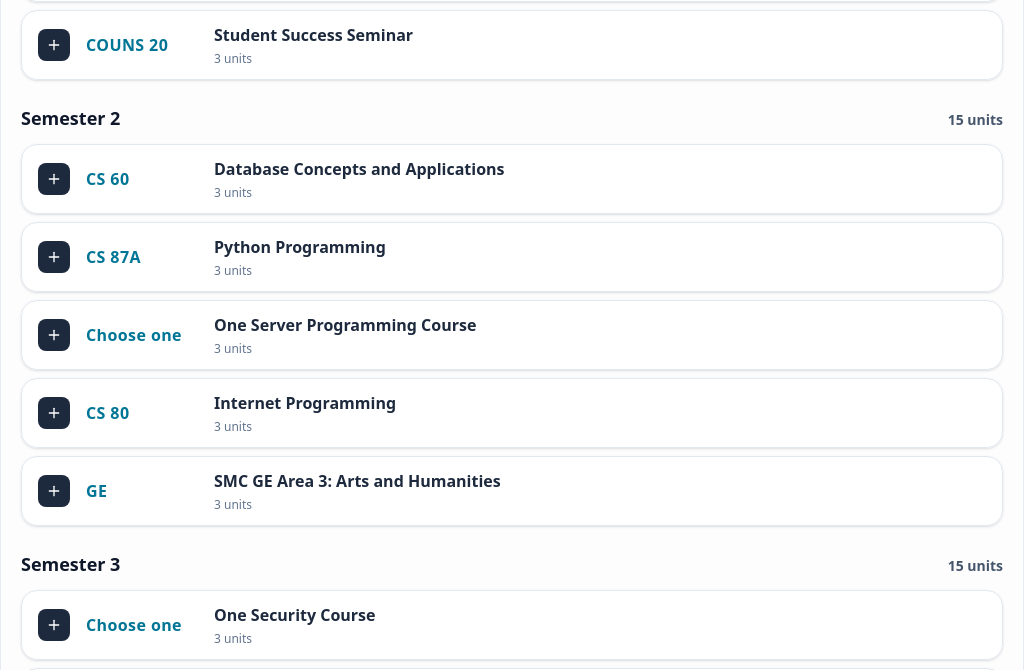
Test: WebDevMajorRequirements › updates group title after selecting an option
This screenshot has width=1024, height=670.
(page scrolled)
Click the button "Choose one One Server Programming Course 3 units" at (54, 335), box [22,301,1002,369]
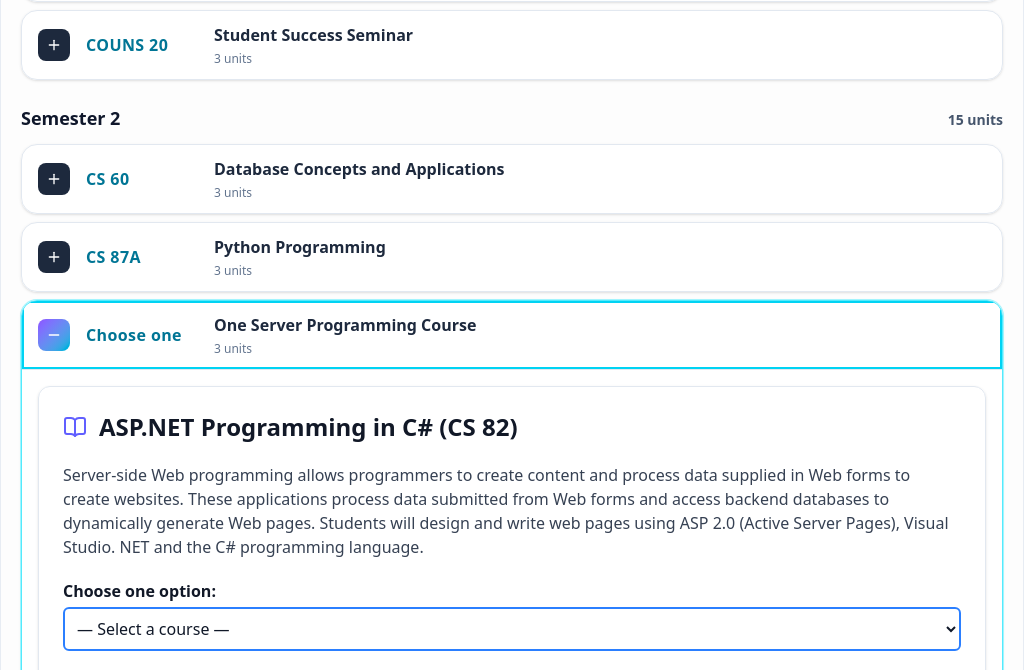
Select "CS 85 – PHP Programming" in the dropdown at (512, 629), box [63,607,961,651]
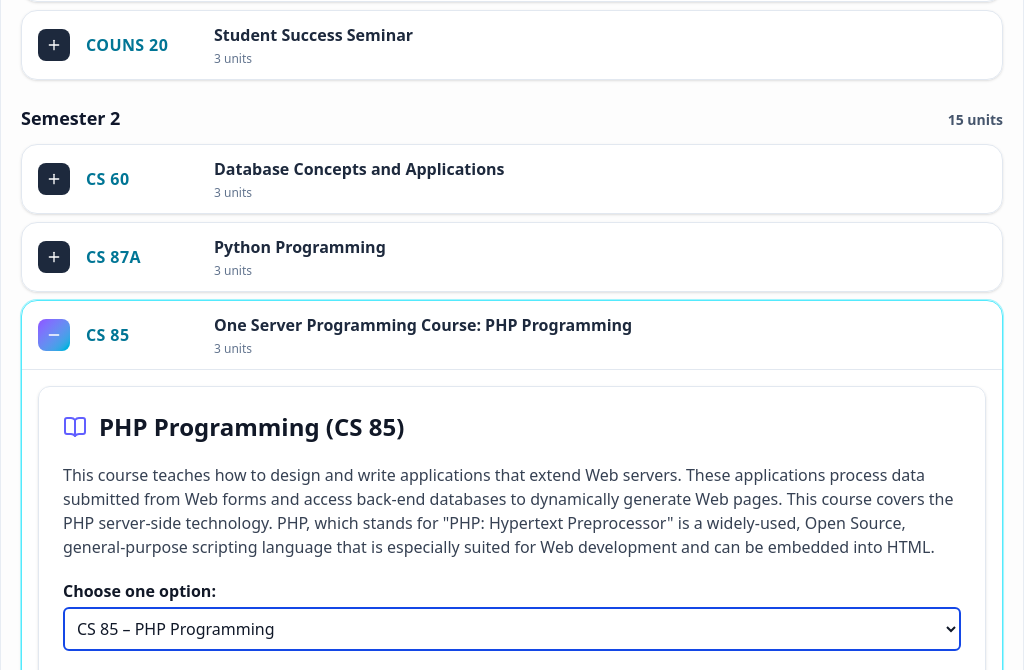
Now the button "CS 85 One Server Programming Course: PHP Programming 3 units" is shown, box [22,301,1002,369]
